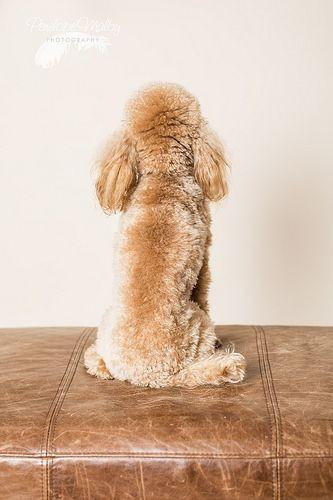adult_dog: (82, 83, 249, 388)
